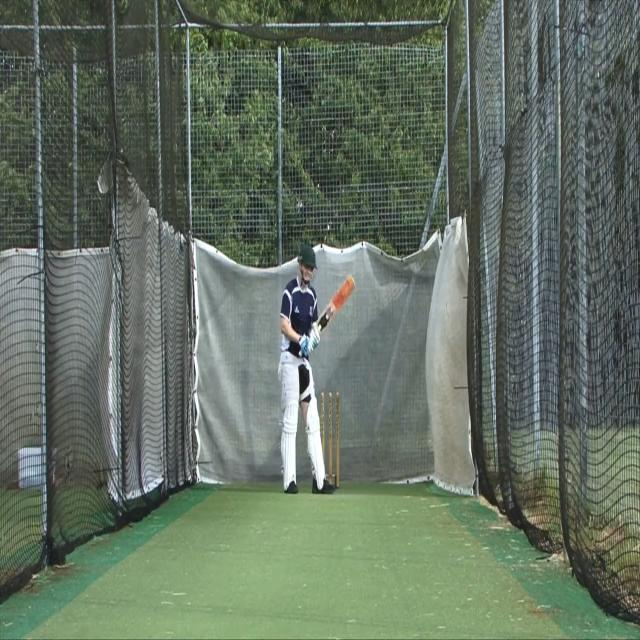batsman: (276, 243, 356, 497)
